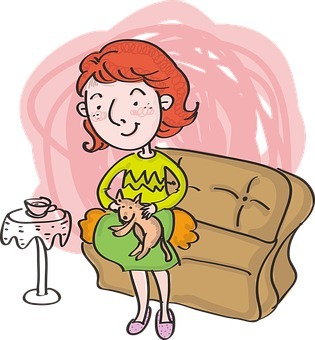dog: (107, 188, 175, 261)
person: (74, 46, 200, 335)
sofa: (80, 142, 315, 323)
